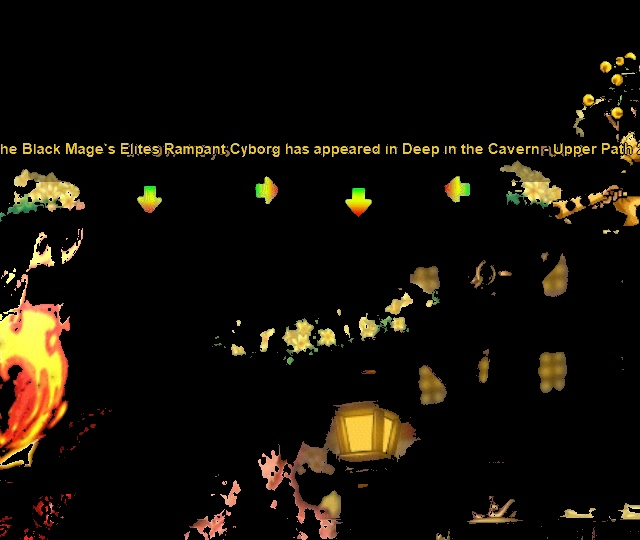down: (335, 179, 380, 223), (132, 177, 172, 226)
left: (436, 170, 479, 210)
right: (245, 169, 289, 211)
